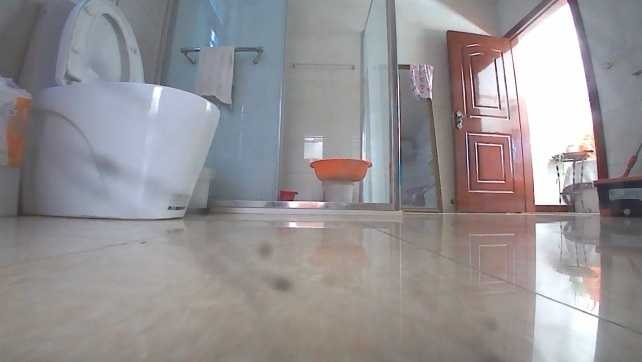door_anno: (445, 27, 536, 212)
toilet: (15, 1, 223, 221)
